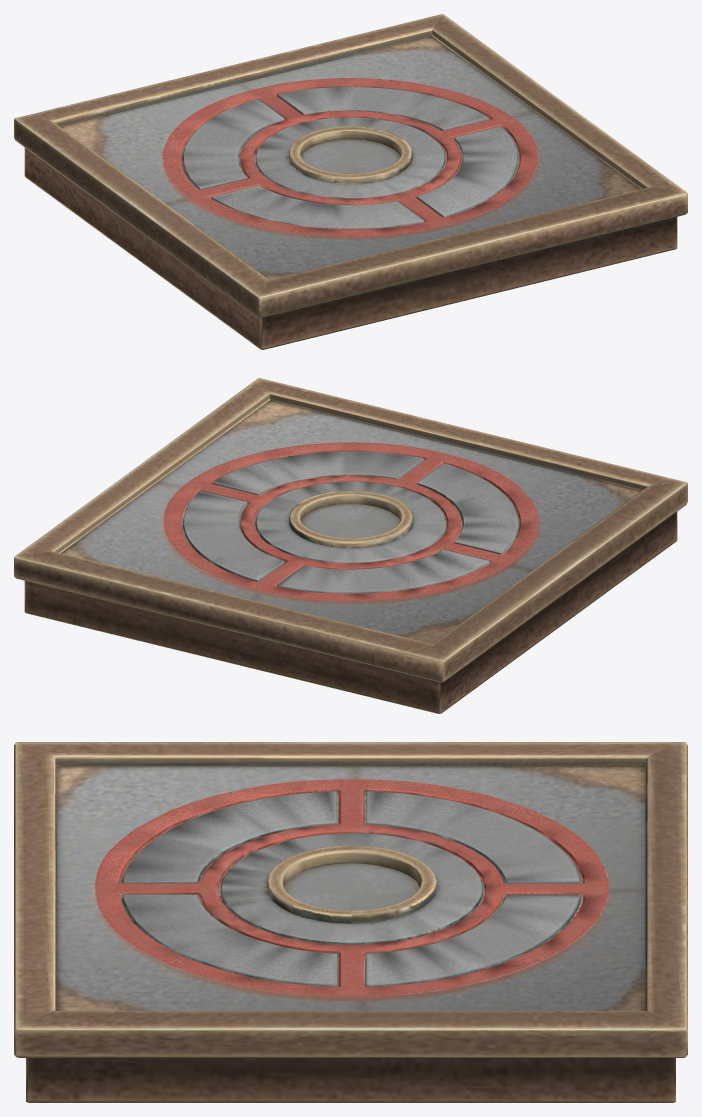
Rendered from tripo_convert_b8e33425-7c3f-477b-9b0f-1b6a0438542a.fbx.
3 views of the same model, one above another, from view 1: azimuth 30°, elevation 25°; view 2: azimuth 150°, elevation 25°; view 3: azimuth 270°, elevation 25° (orthographic). The views are drawn at different scales.
Parts seen in each view (by area): view 1: tripo_node_b8e33425; view 2: tripo_node_b8e33425; view 3: tripo_node_b8e33425.
Part boxes in pixels (left/top/right/bottom): tripo_node_b8e33425: left=14, top=14, right=687, bottom=349; tripo_node_b8e33425: left=14, top=378, right=687, bottom=713; tripo_node_b8e33425: left=14, top=742, right=687, bottom=1102.
Size of the model in its own units: 0.998 by 0.1348 by 0.9902.
1 material, 1 textured.
